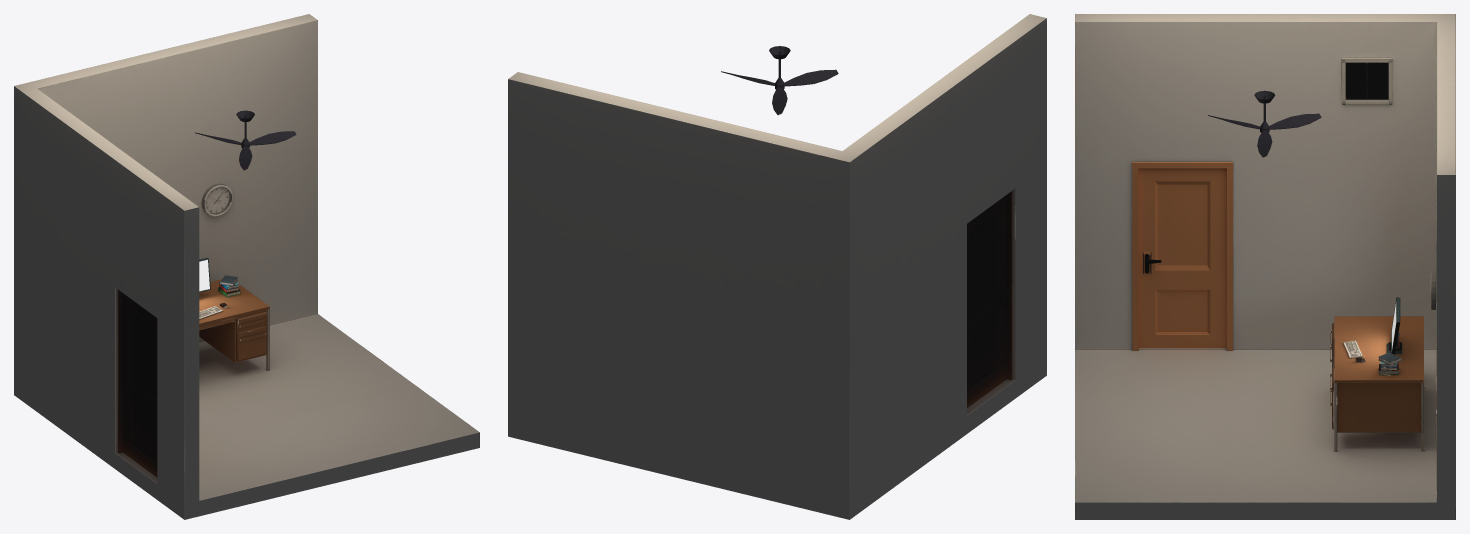
Rendered from study room.glb.
3 renders of one model, left to right at view 1: azimuth 30°, elevation 25°; view 2: azimuth 150°, elevation 25°; view 3: azimuth 270°, elevation 25°, orthographic. The views are drawn at different scales.
Visible parts, largest first — view 1: model.003, doorway.001, Ceiling Fan.001; view 2: model.003, doorway.001, Ceiling Fan.001; view 3: model.003, doorway.001, Ceiling Fan.001.
Part boxes in pixels (<box>): model.003: <box>14,14,479,519</box>; doorway.001: <box>118,289,157,477</box>; Ceiling Fan.001: <box>195,110,296,170</box>; model.003: <box>508,14,1046,519</box>; doorway.001: <box>967,191,1012,407</box>; Ceiling Fan.001: <box>721,46,838,114</box>; model.003: <box>1075,14,1455,519</box>; doorway.001: <box>1132,162,1232,350</box>; Ceiling Fan.001: <box>1208,90,1321,157</box>.
Bounding box in the file's own units: 6 × 6 × 6.
3 materials, 3 textured.
